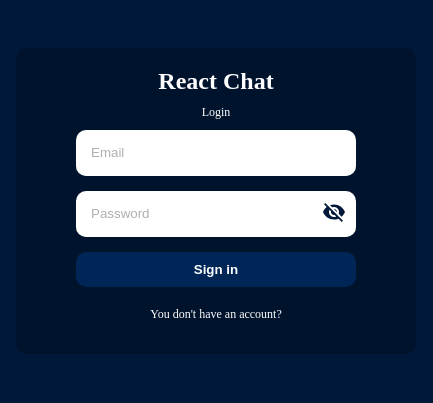
Test: <Login /> › Password is wrong
The image size is (433, 403).
Type "test@example.com" into the field with placeholder "Email" at x=216, y=153, box [76,130,356,176]
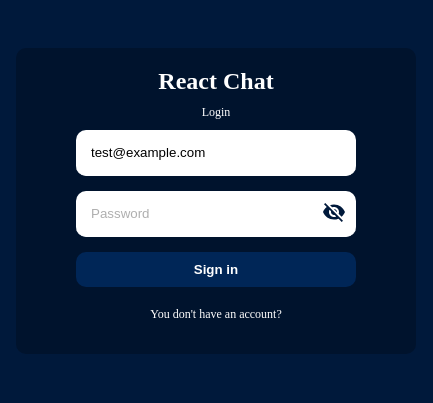
Type "wrongPassword" into the password field with placeholder "Password" at x=216, y=214, box [76,191,356,237]
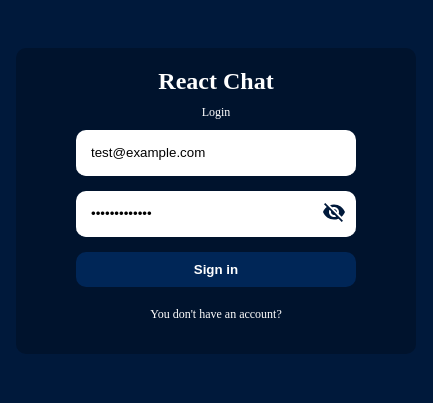
Click the button "Sign in" at x=216, y=270, box [76,252,356,287]
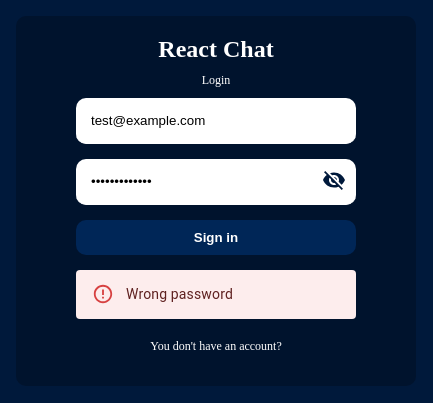
Expected: the text "Wrong password" is shown, [126,286,233,302]
